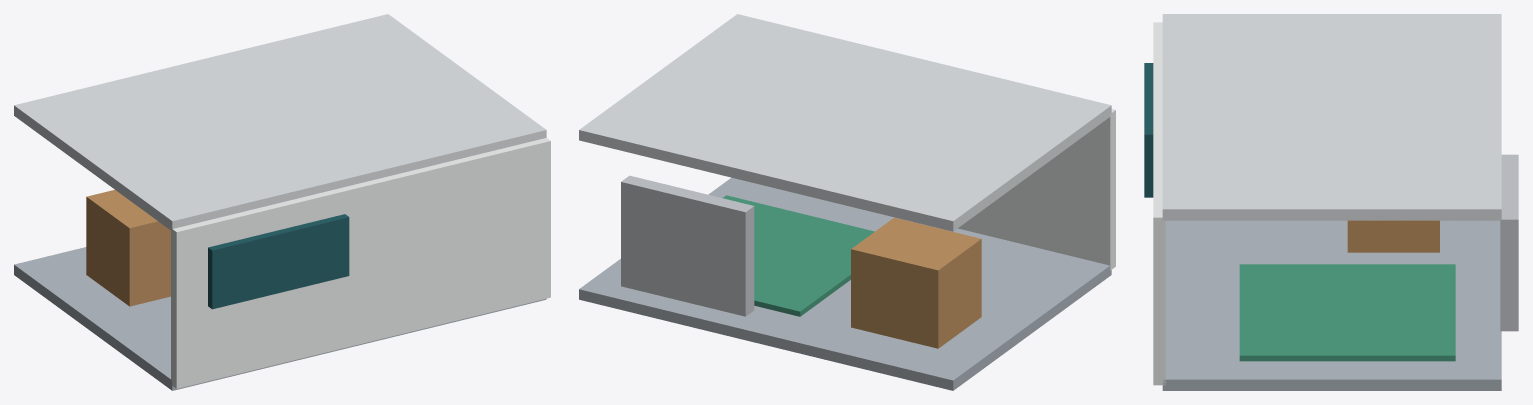
Rendered from labsouq-demo-instrument.glb.
3 views of the same model, side by side, from view 1: azimuth 30°, elevation 25°; view 2: azimuth 150°, elevation 25°; view 3: azimuth 270°, elevation 25° (orthographic). The views are drawn at different scales.
Parts seen in each view (by area): view 1: Cover, FrontPanel, Chassis, Display, Transformer; view 2: Cover, Chassis, Heatsink, Transformer, FrontPanel, MainBoard; view 3: Cover, Chassis, MainBoard, FrontPanel, Heatsink, Transformer, Display.
Boxes of the visible parts, x1=… form: Cover: x1=14, y1=14, x2=546, y2=231; FrontPanel: x1=171, y1=138, x2=550, y2=388; Chassis: x1=14, y1=247, x2=546, y2=390; Display: x1=208, y1=214, x2=349, y2=309; Transformer: x1=86, y1=190, x2=170, y2=306; Cover: x1=579, y1=14, x2=1111, y2=231; Chassis: x1=579, y1=177, x2=1111, y2=390; Heatsink: x1=621, y1=175, x2=754, y2=316; Transformer: x1=851, y1=217, x2=981, y2=348; FrontPanel: x1=958, y1=109, x2=1115, y2=270; MainBoard: x1=722, y1=195, x2=874, y2=316; Cover: x1=1162, y1=14, x2=1501, y2=220; Chassis: x1=1162, y1=220, x2=1501, y2=390; MainBoard: x1=1239, y1=264, x2=1455, y2=361; FrontPanel: x1=1153, y1=22, x2=1165, y2=385; Heatsink: x1=1500, y1=154, x2=1518, y2=331; Transformer: x1=1347, y1=220, x2=1439, y2=252; Display: x1=1144, y1=63, x2=1153, y2=197.
Size of the model in its own units: 3 by 1.3 by 2.43.
